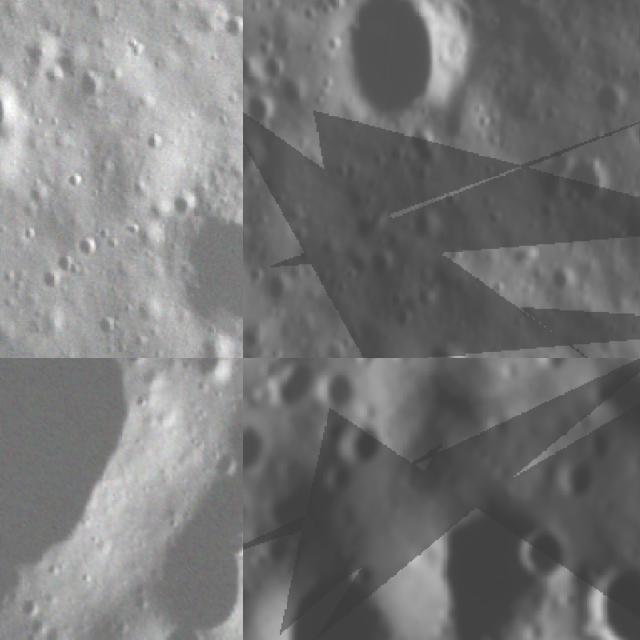crater: (383, 461, 600, 640), (0, 358, 154, 598), (320, 0, 487, 135), (243, 531, 433, 640), (119, 523, 243, 640), (167, 198, 243, 321), (563, 544, 640, 632), (508, 512, 582, 594), (324, 406, 396, 476), (253, 358, 329, 420), (550, 152, 612, 220), (303, 365, 371, 425), (547, 452, 603, 508), (243, 409, 279, 489), (397, 201, 451, 249), (583, 76, 636, 122), (310, 455, 356, 501), (243, 89, 283, 135), (243, 132, 277, 186), (540, 261, 588, 297), (255, 52, 293, 89), (0, 137, 18, 215), (0, 76, 20, 145), (70, 68, 108, 104), (142, 624, 222, 640), (525, 358, 578, 382), (10, 597, 43, 633), (195, 358, 234, 387), (216, 4, 243, 41), (51, 249, 80, 281), (70, 235, 101, 264), (37, 264, 63, 297), (243, 47, 261, 91), (420, 342, 466, 358), (625, 116, 640, 156), (38, 626, 69, 640), (501, 632, 545, 640)
